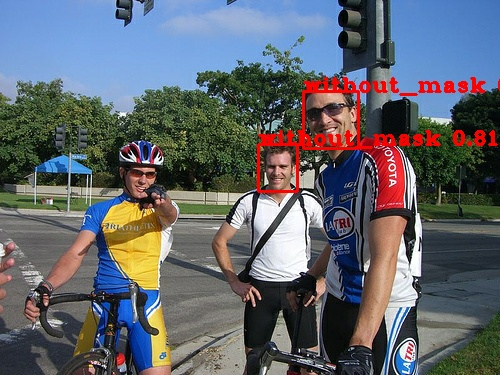without_mask: (303, 90, 362, 151), (116, 160, 158, 202), (262, 147, 299, 192)
